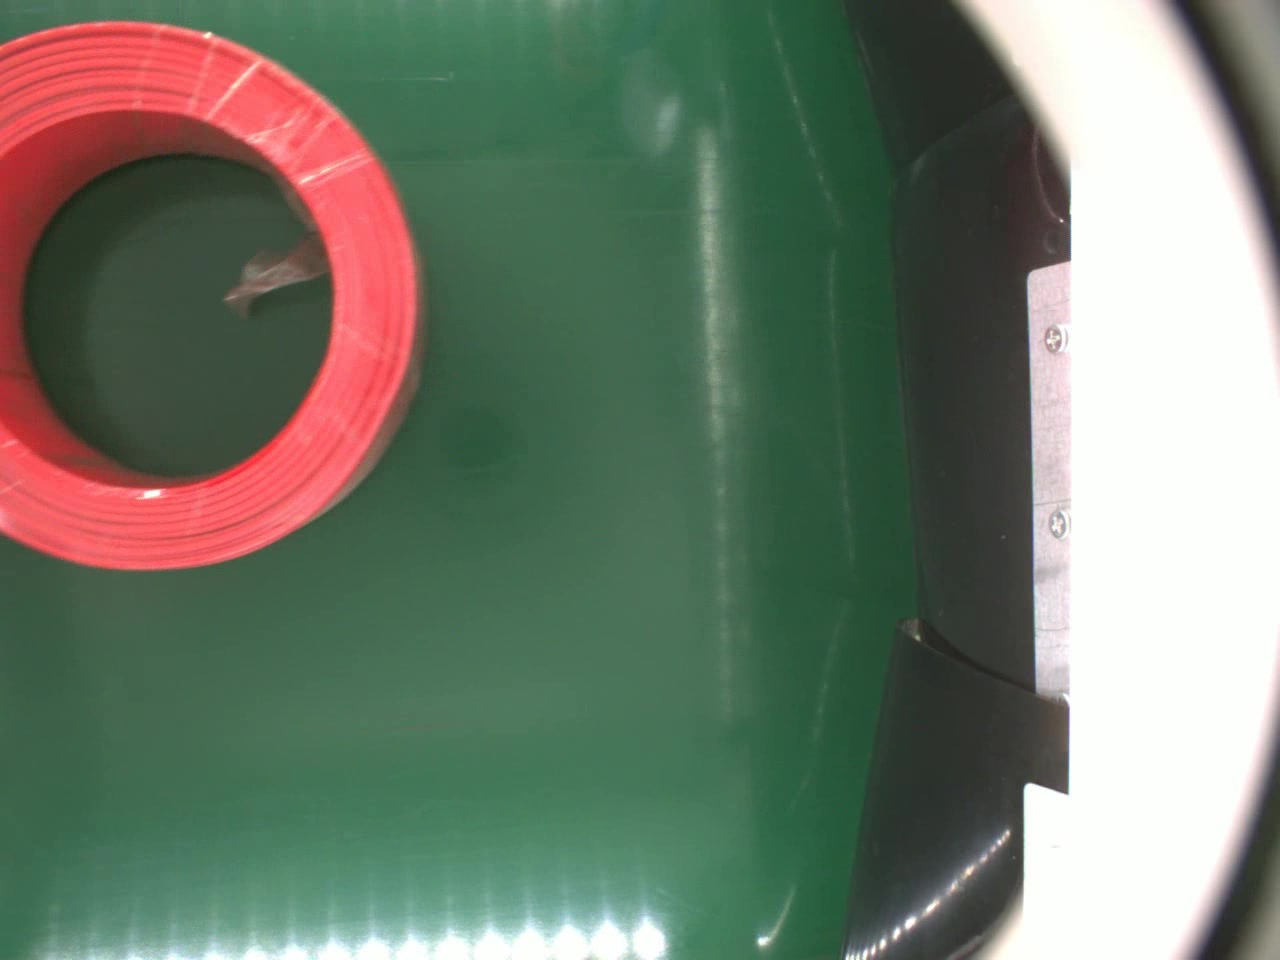red: (0, 19, 428, 570)
